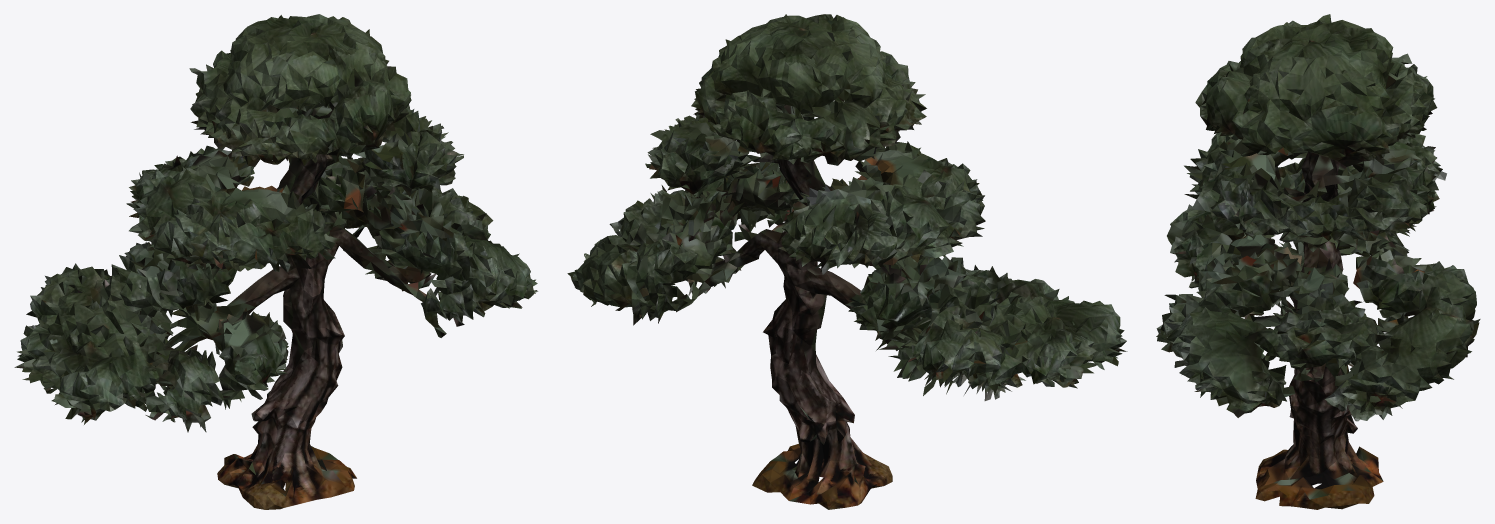
File: traveler_env_coast_castle_diorama_matsu_00001_.glb
3 views of the same model, side by side, from view 1: azimuth 30°, elevation 25°; view 2: azimuth 150°, elevation 25°; view 3: azimuth 270°, elevation 25° (orthographic). The views are drawn at different scales.
Parts seen in each view (by area): view 1: temp_mesh.ply; view 2: temp_mesh.ply; view 3: temp_mesh.ply.
Part boxes in pixels (box(x1,y1,x2,y2)): temp_mesh.ply: box(14, 14, 538, 509); temp_mesh.ply: box(567, 14, 1127, 509); temp_mesh.ply: box(1156, 14, 1480, 509).
Bounding box in the file's own units: 1.97 × 1.74 × 1.11.
1 material, 1 textured.
